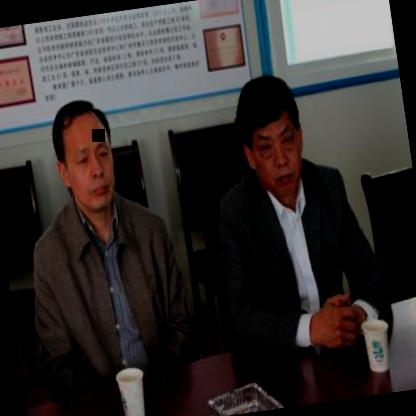head: (228, 66, 314, 201), (44, 90, 128, 220)
